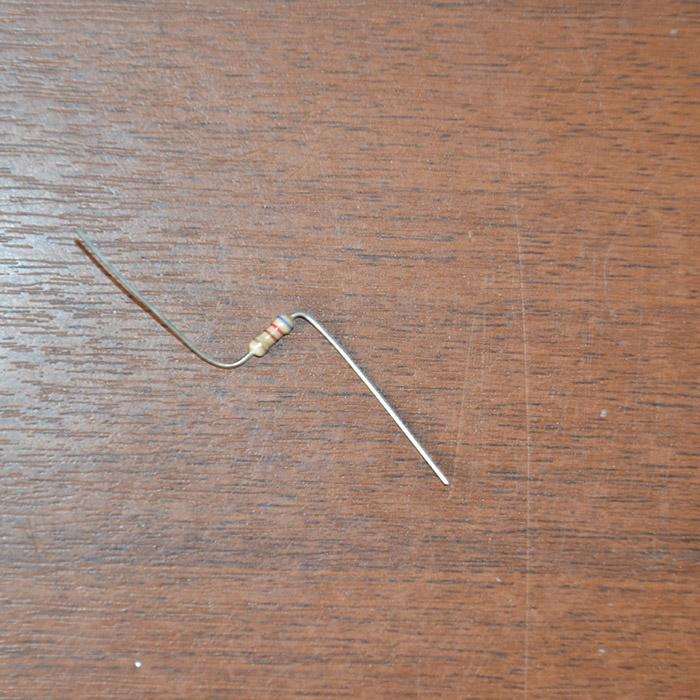resistor: (248, 312, 294, 357)
